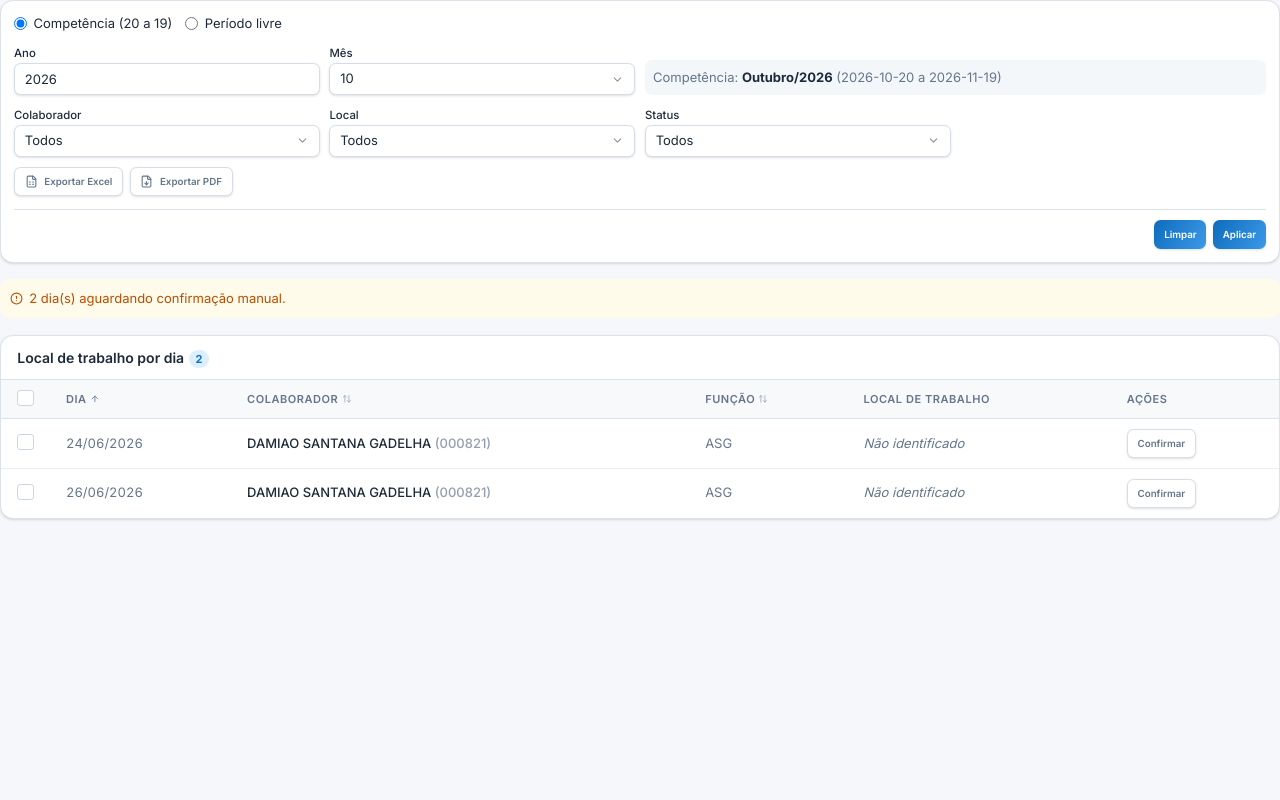
AbaEscalasDiario — confirmação de local › modal mostra "Locais usados recentemente" com contagem quando o colaborador tem histórico
This screenshot has width=1280, height=800.
Step 1. Click the button "Confirmar" in the row of "24/06/2026" → x=1161, y=443, box 1127,429 -> 1196,458
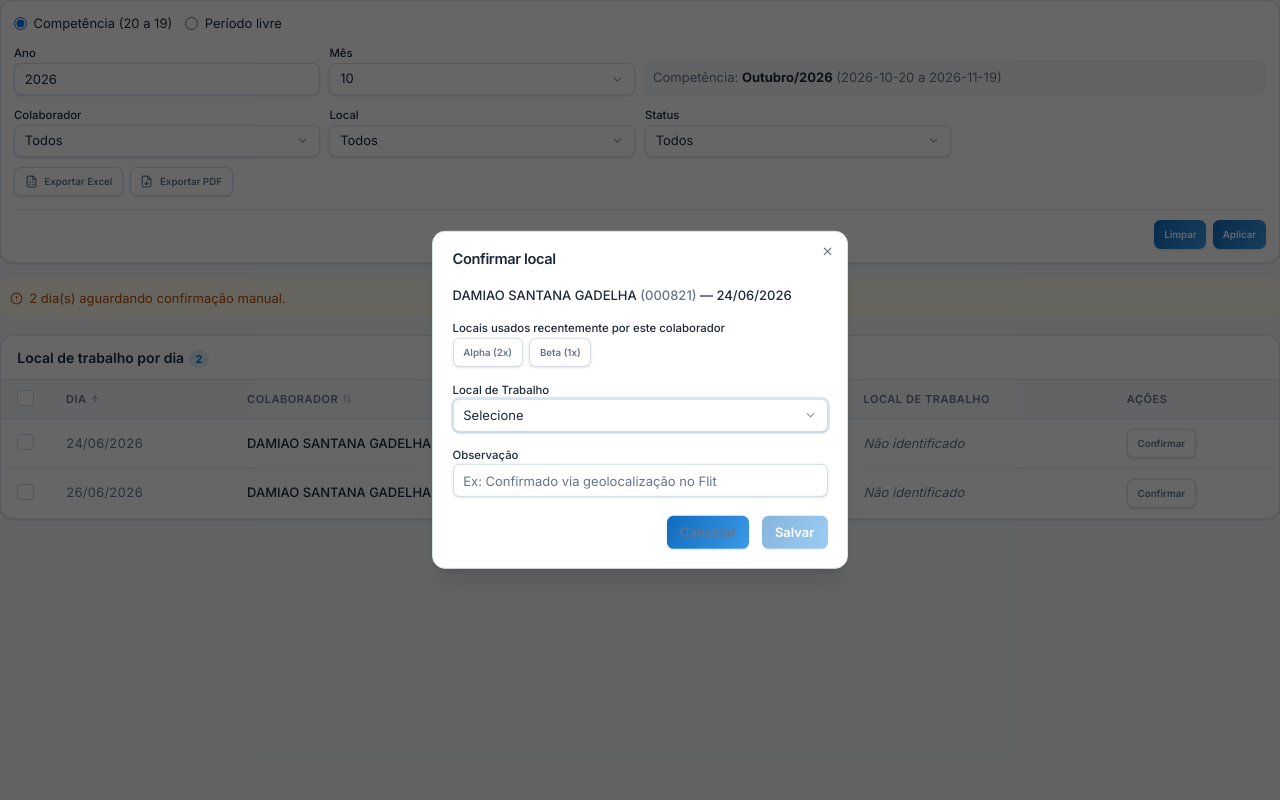
Expected: the text "Locais usados recentemente por este colaborador" is shown, 452,321 -> 725,335
Expected: the button "Alpha (2x)" is shown, 452,337 -> 523,367
Expected: the button "Beta (1x)" is shown, 529,337 -> 591,367
